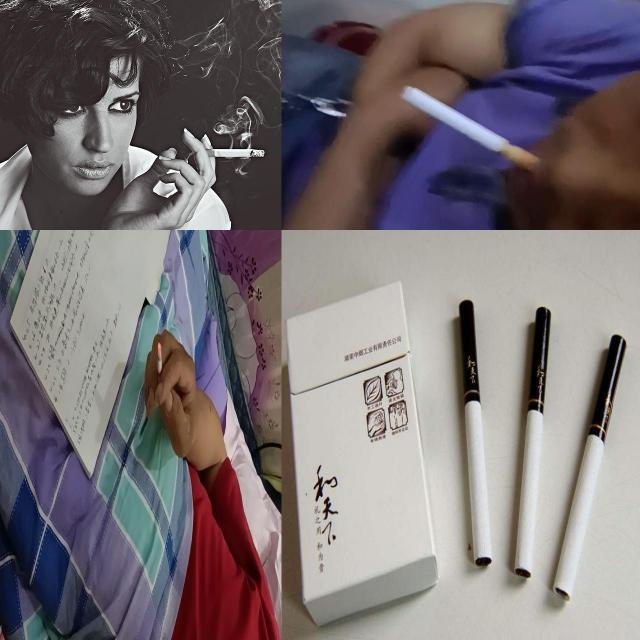cigarette: (554, 334, 628, 602), (403, 86, 543, 176), (514, 306, 552, 580), (458, 300, 494, 568), (192, 148, 266, 158), (157, 342, 163, 395)
